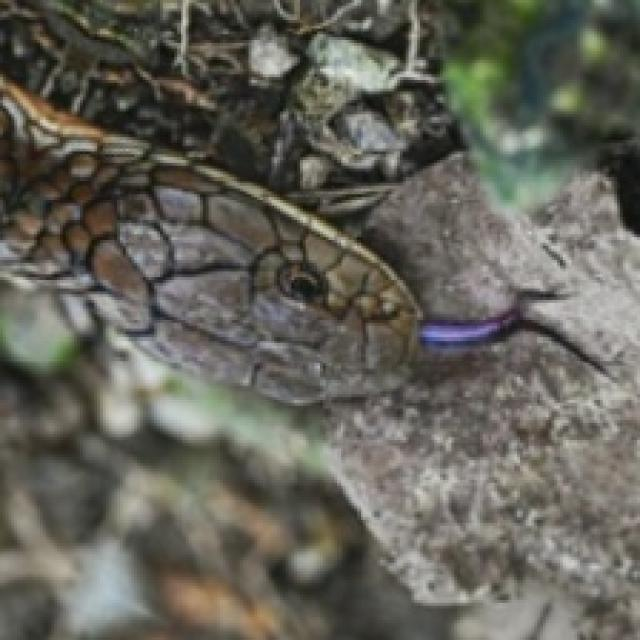king cobra: (0, 0, 520, 403)
